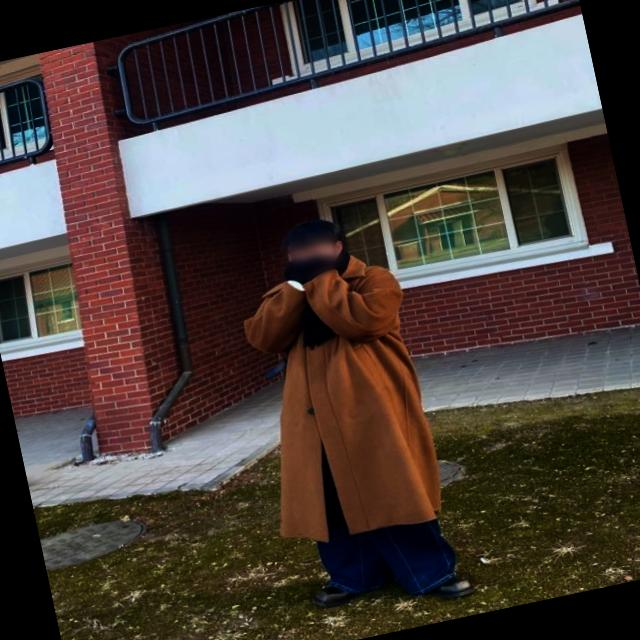coat: (222, 241, 452, 554)
denimpants: (294, 407, 462, 613)
